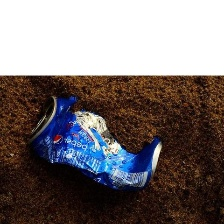can: (24, 89, 167, 195)
